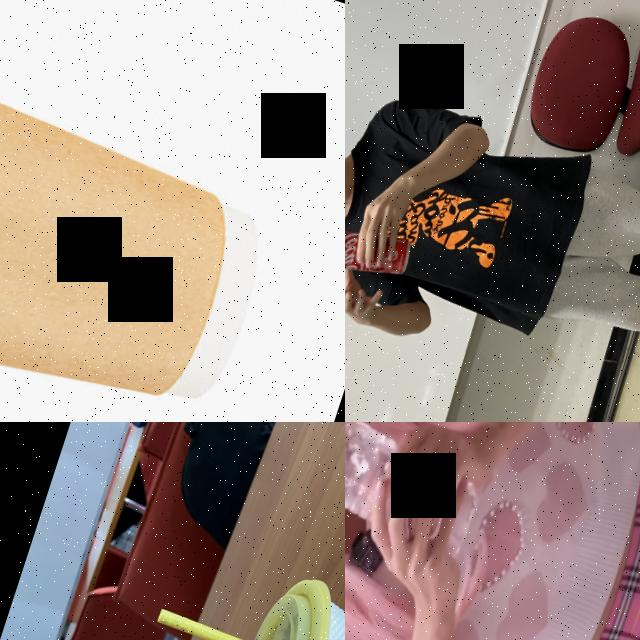bottle: (345, 422, 491, 574)
can: (345, 212, 417, 290)
cup: (0, 47, 294, 422)
